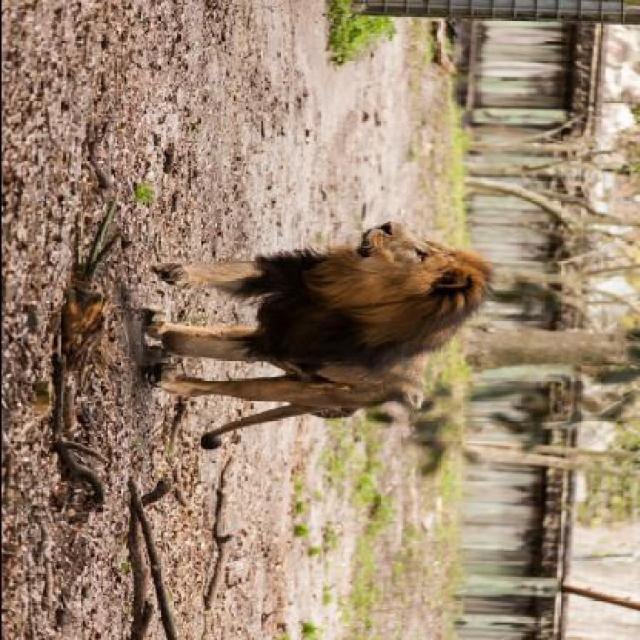Lion: (127, 214, 496, 478)
